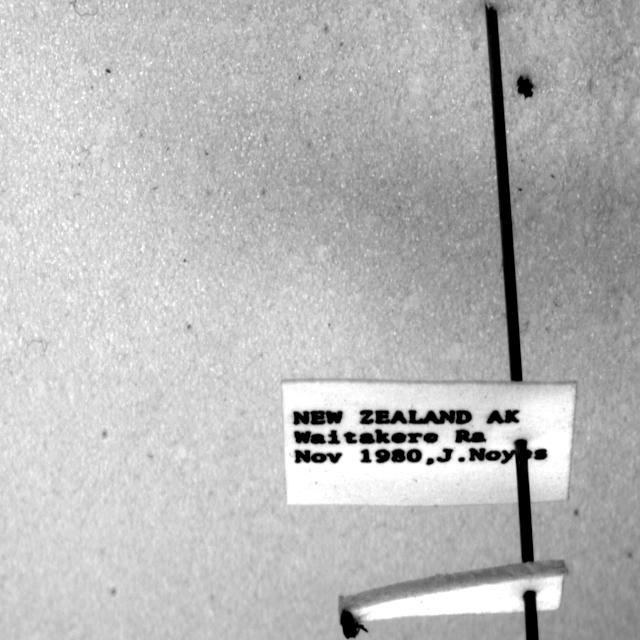typed_label: (282, 381, 576, 506)
